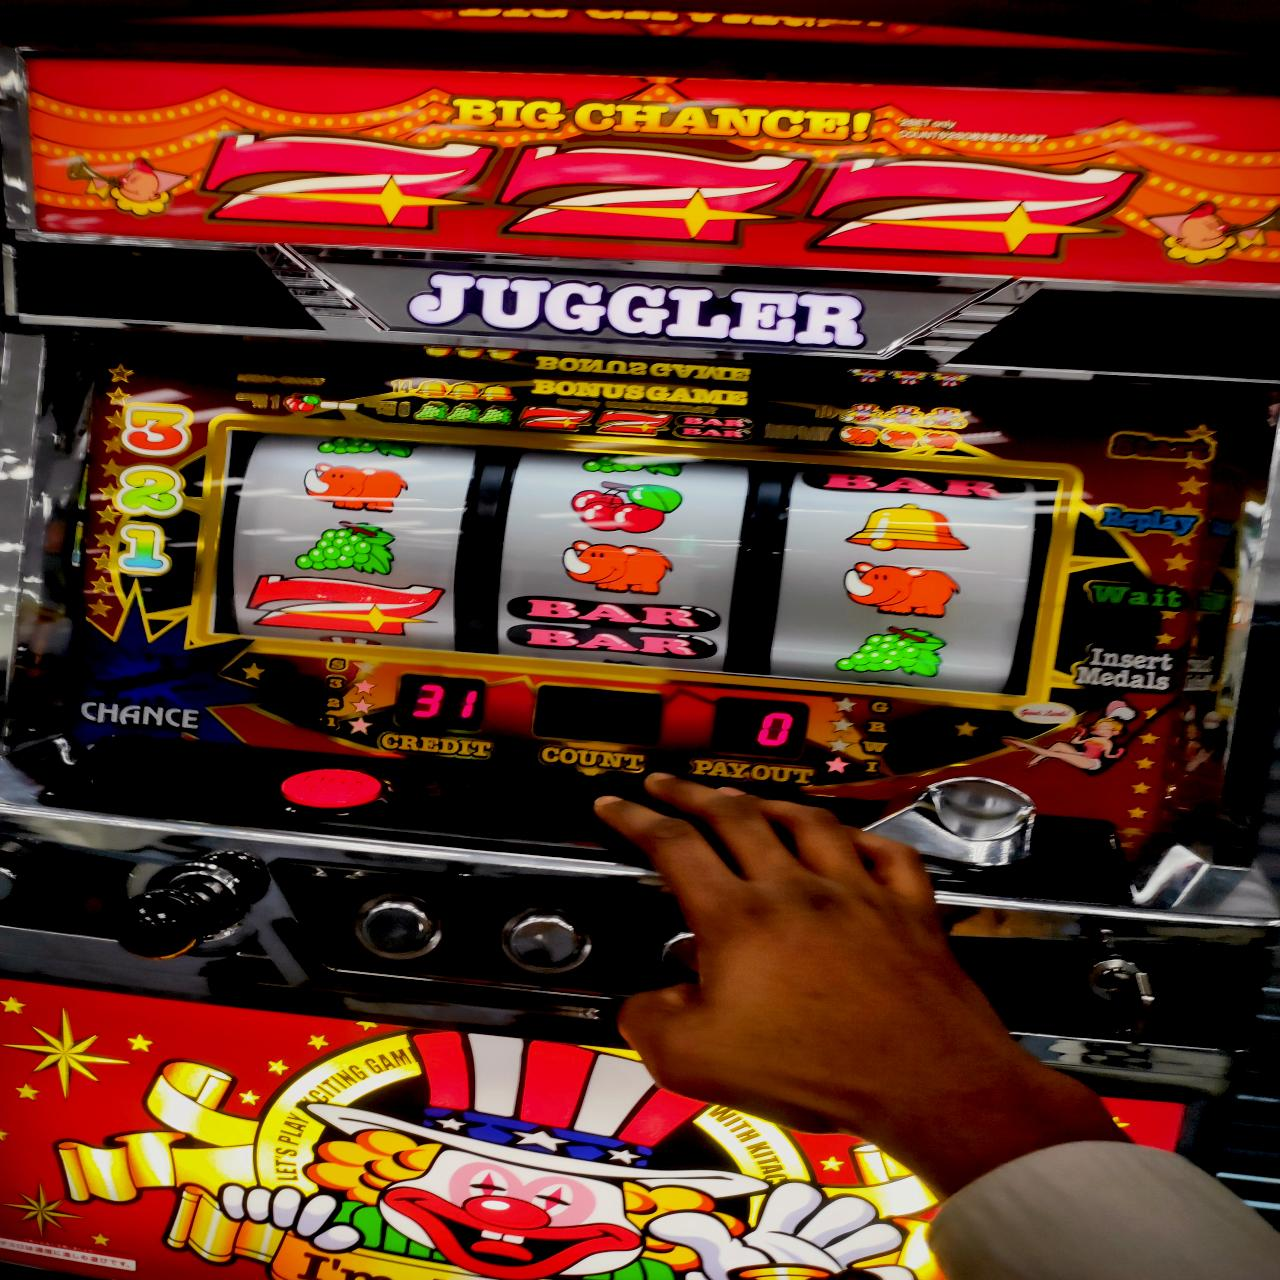7: (247, 573, 445, 640)
8: (844, 560, 964, 619), (558, 539, 674, 597), (298, 458, 411, 513)
Display: (220, 423, 1043, 697)
bar: (512, 595, 722, 666)
bell: (845, 502, 972, 553)
cherry: (565, 478, 688, 537)
grape: (835, 626, 949, 678), (297, 517, 397, 574)
